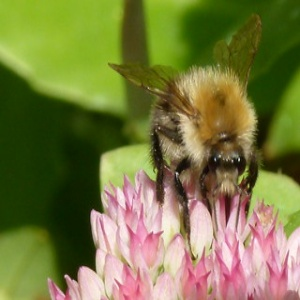bee: (106, 15, 269, 256)
